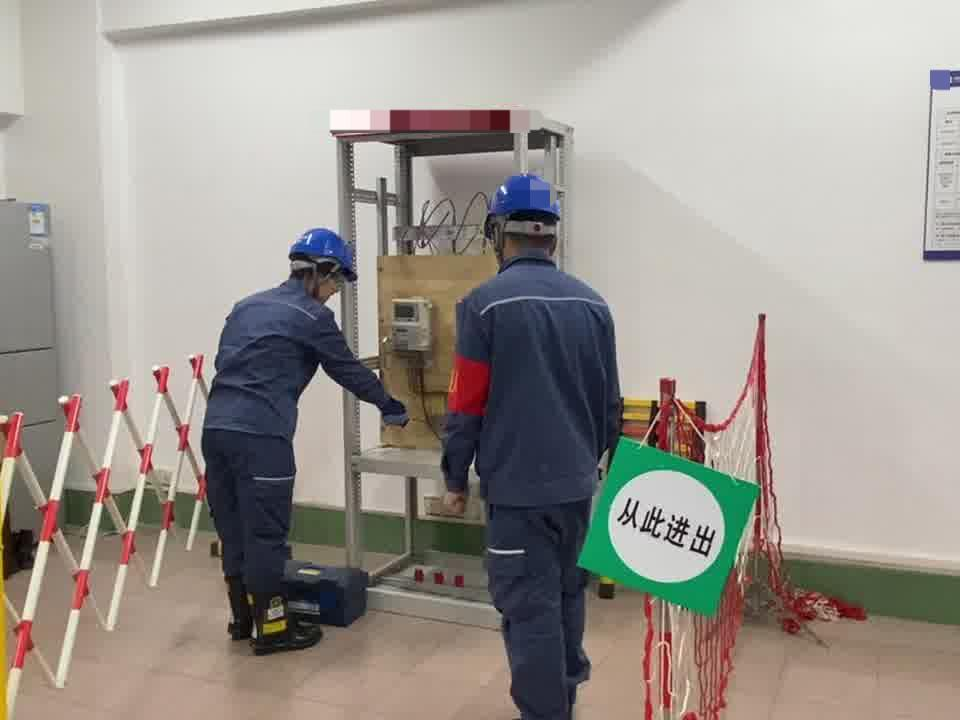halt: (486, 174, 566, 261), (288, 230, 359, 301)
inear: (311, 261, 340, 299), (487, 221, 513, 262)
